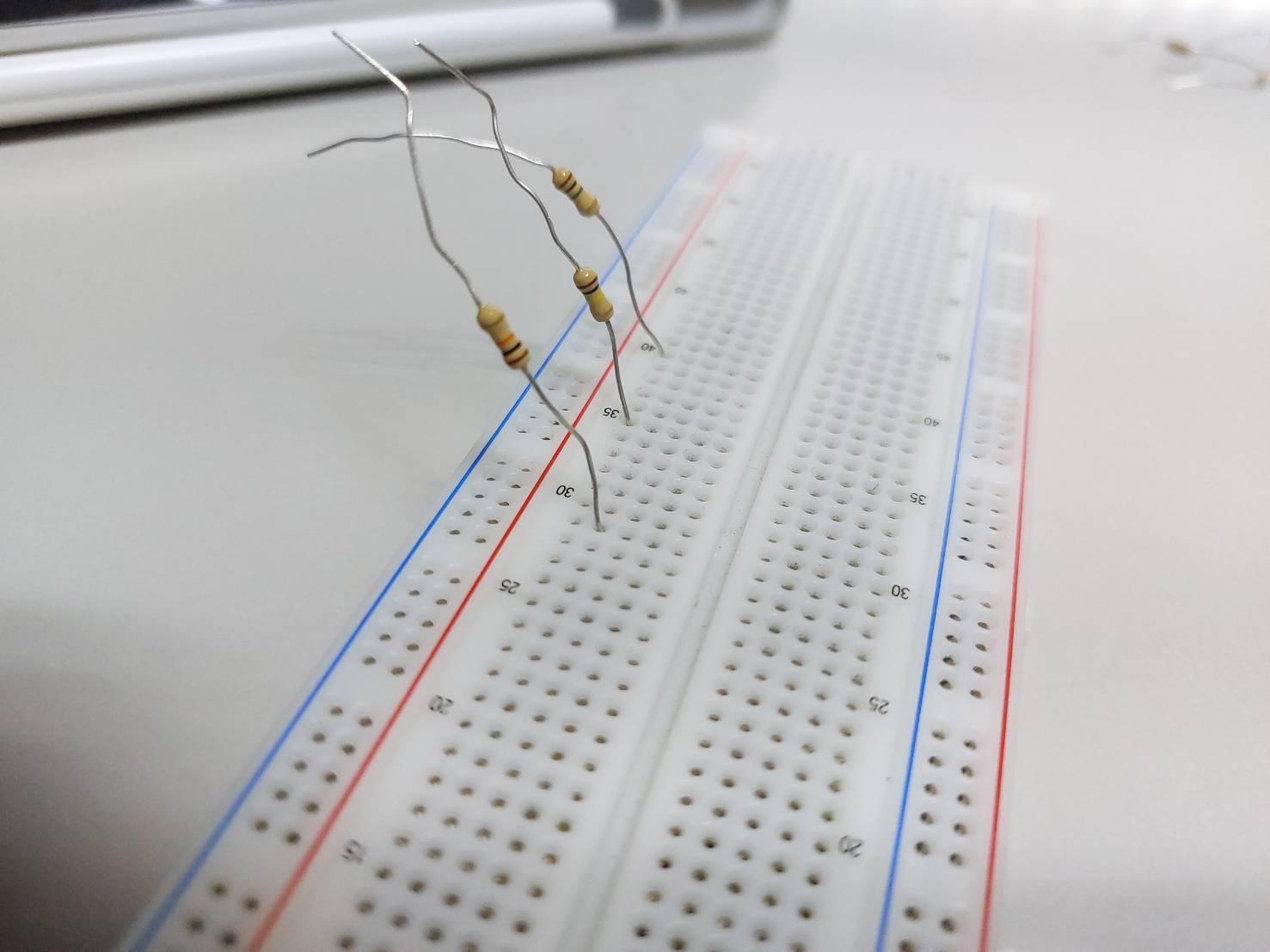resistor: (478, 303, 530, 371), (551, 166, 599, 218), (576, 265, 615, 324)
